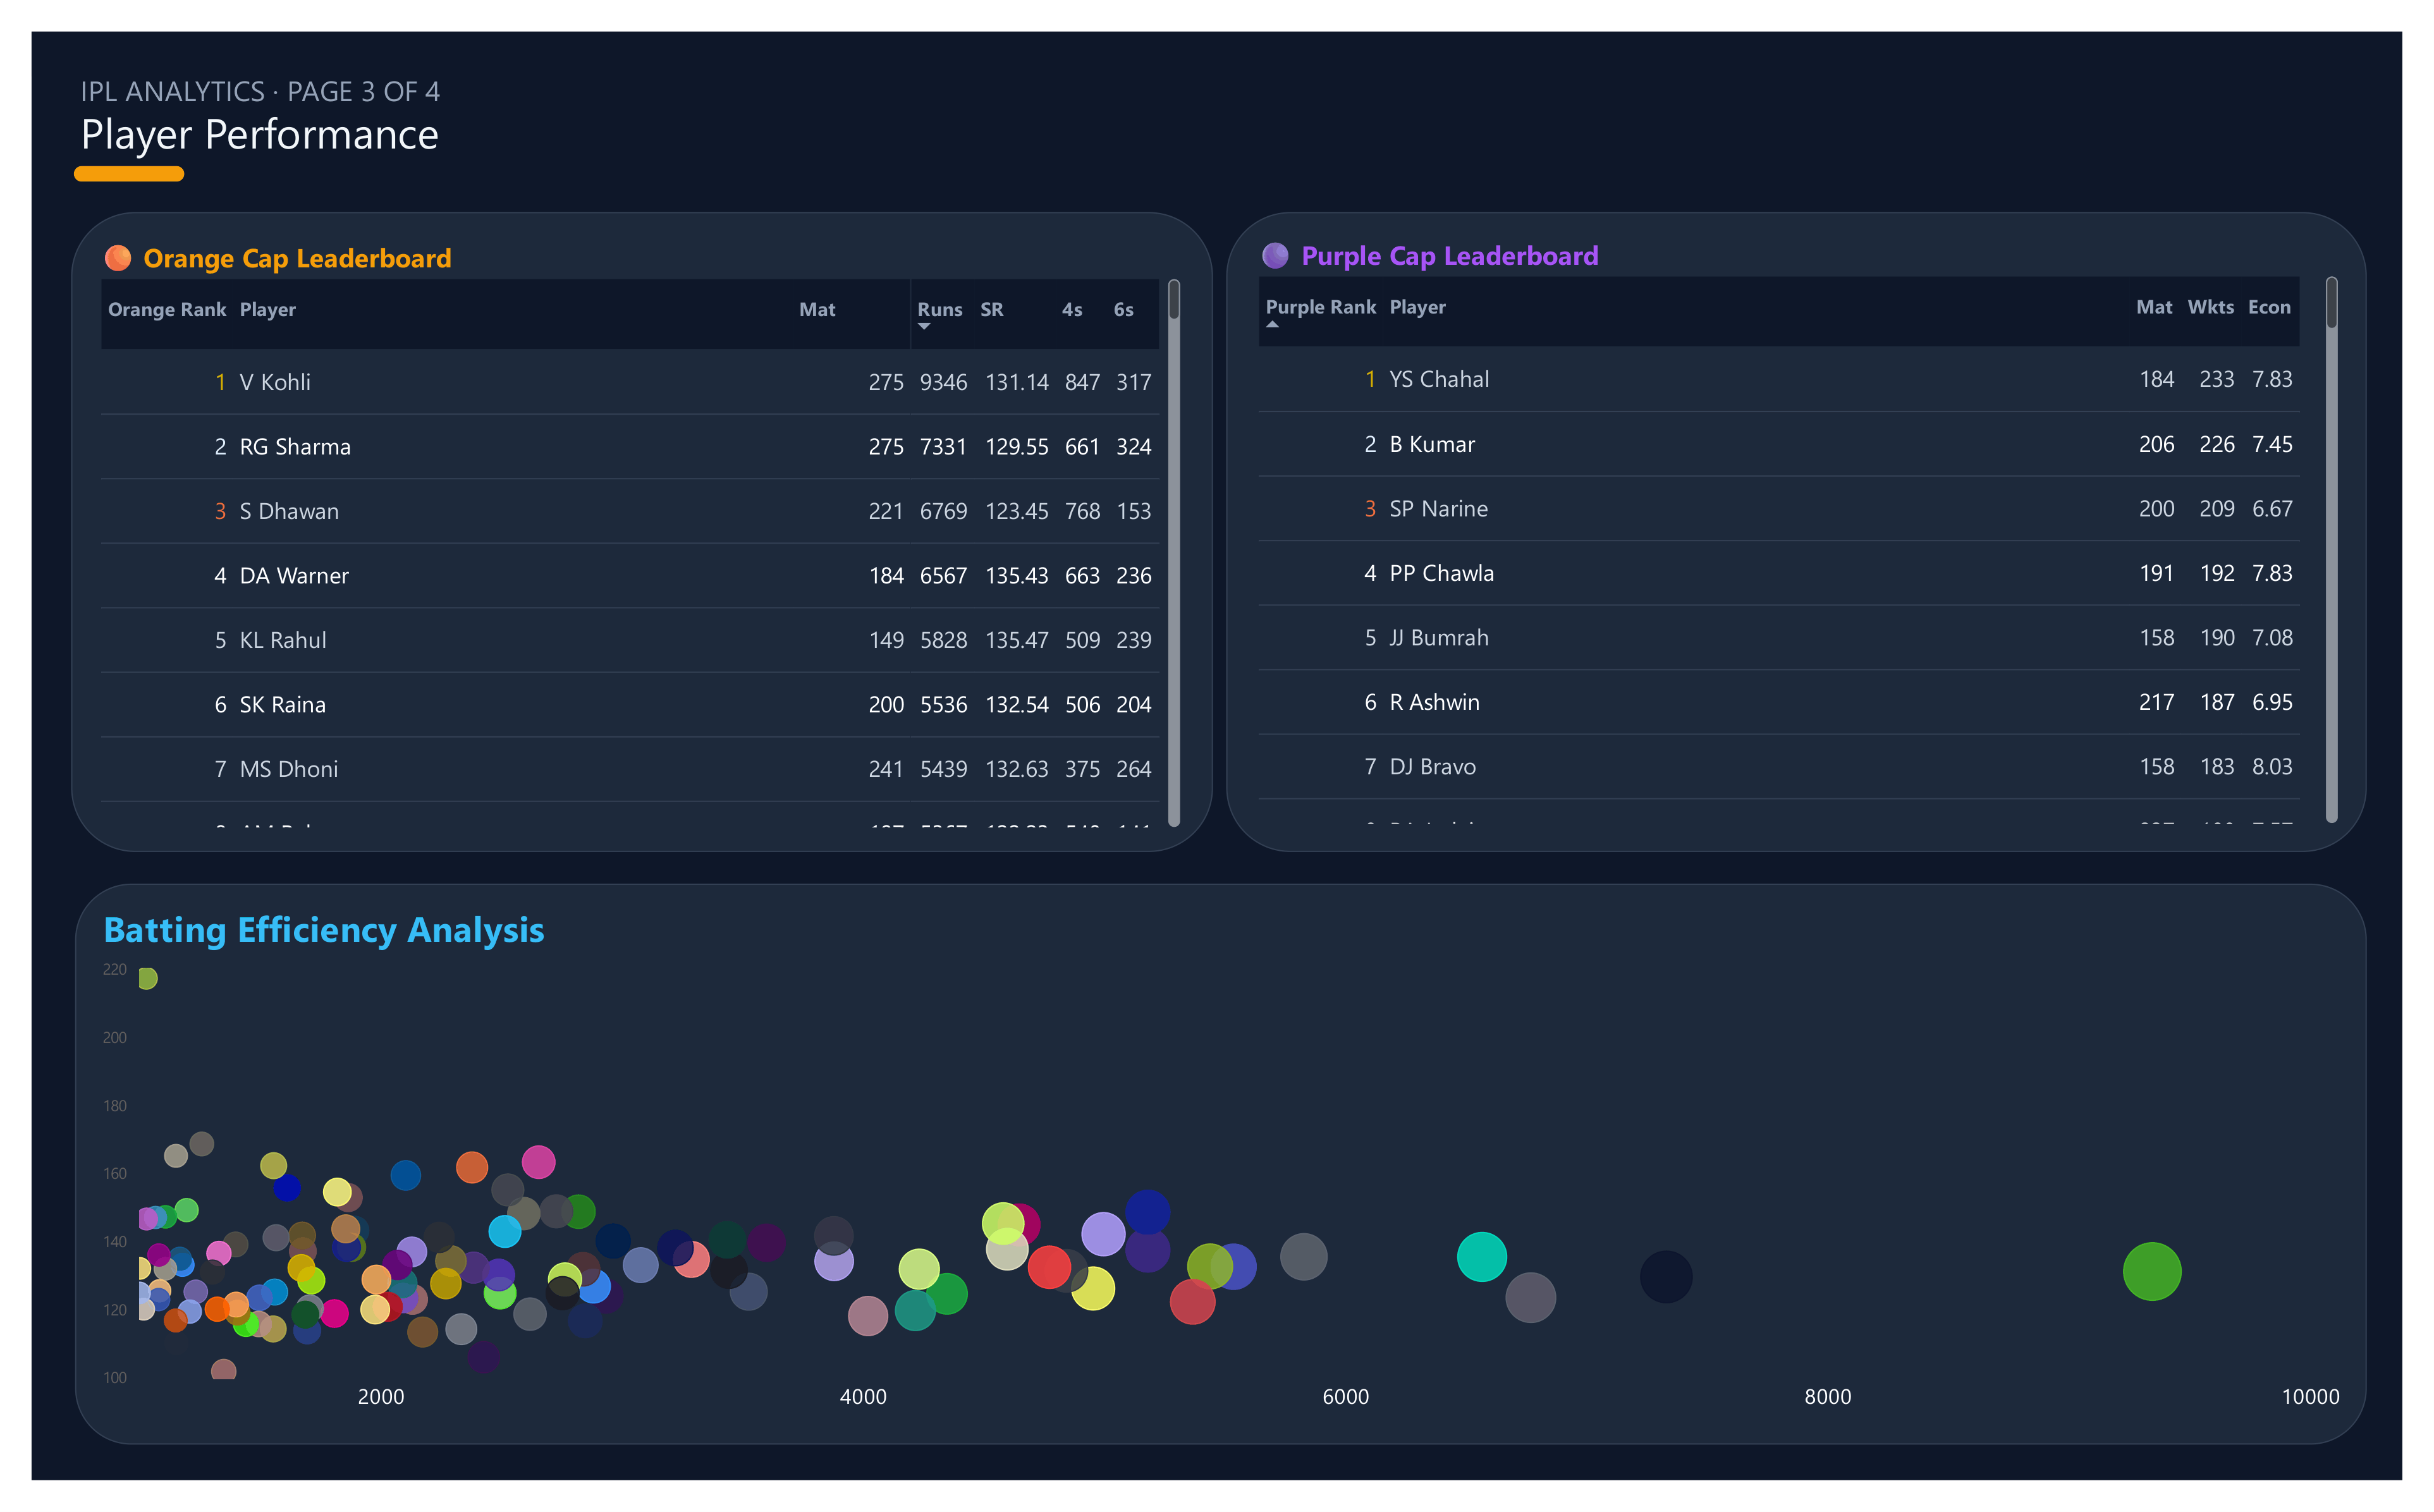

Layout of this report page (visuals, bound fields, positions):
{"tool":"powerbi","page":{"name":"Player Performance","canvas":[1800,1100],"ordinal":2},"visuals":[{"type":"textbox","box":[32,24,304,46],"z":0},{"type":"textbox","box":[31.8,48.5,517.9,59.1],"z":1000},{"type":"shape","box":[32,102,84,12],"z":2000},{"type":"shape","box":[30,136.7,866.7,486.7],"z":3000},{"type":"shape","box":[33.3,646.7,1740,426.7],"z":4000},{"type":"shape","box":[906.7,136.7,866.7,486.7],"z":5000},{"type":"tableEx","title":"🟠 Orange Cap Leaderboard","fields":{"Values":["vw_orange_cap.Orange Rank","vw_orange_cap.Player","Sum(vw_orange_cap.Mat)","Sum(vw_orange_cap.Runs)","Sum(vw_orange_cap.SR)","Sum(vw_orange_cap.4s)","Sum(vw_orange_cap.6s)"]},"box":[47.1,155.7,830,452.9],"z":6000},{"type":"tableEx","title":"🟣 Purple Cap Leaderboard","fields":{"Values":["vw_purple_cap.Purple Rank","vw_purple_cap.Player","Sum(vw_purple_cap.Mat)","Sum(vw_purple_cap.Wkts)","Sum(vw_purple_cap.Econ)"]},"box":[926,154,830,452],"z":7000},{"type":"scatterChart","title":"Batting Efficiency Analysis","fields":{"X":["Sum(vw_orange_cap.Runs)"],"Y":["Sum(vw_orange_cap.SR)"],"Size":["Sum(vw_orange_cap.Runs)"],"Series":["vw_orange_cap.Player"]},"box":[48.8,661.2,1708.8,396.2],"z":8000}]}

Visuals, with their boxes on the page's 1800x1100 design canvas (x1, y1, x2, y2). These are canvas units, not pixel positions in the 2434x1512 screenshot, which may show the page scaled, cropped or inside an application window:
textbox: [left=32, top=24, right=336, bottom=70]
textbox: [left=32, top=48, right=550, bottom=108]
shape: [left=32, top=102, right=116, bottom=114]
shape: [left=30, top=137, right=897, bottom=623]
shape: [left=33, top=647, right=1773, bottom=1073]
shape: [left=907, top=137, right=1773, bottom=623]
"🟠 Orange Cap Leaderboard" tableEx: [left=47, top=156, right=877, bottom=609]
"🟣 Purple Cap Leaderboard" tableEx: [left=926, top=154, right=1756, bottom=606]
"Batting Efficiency Analysis" scatterChart: [left=49, top=661, right=1758, bottom=1057]
